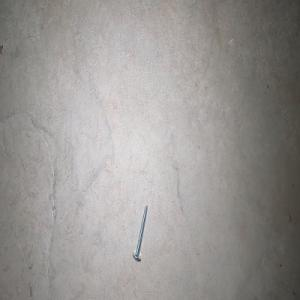Bolt: (132, 203, 147, 260)
